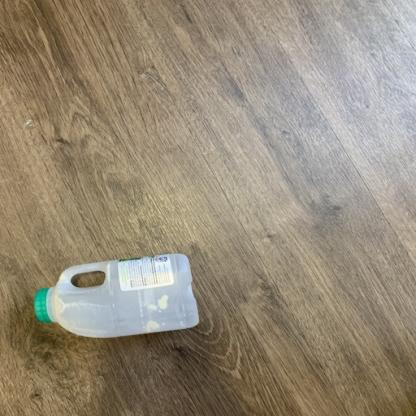trash: (34, 247, 206, 348)
